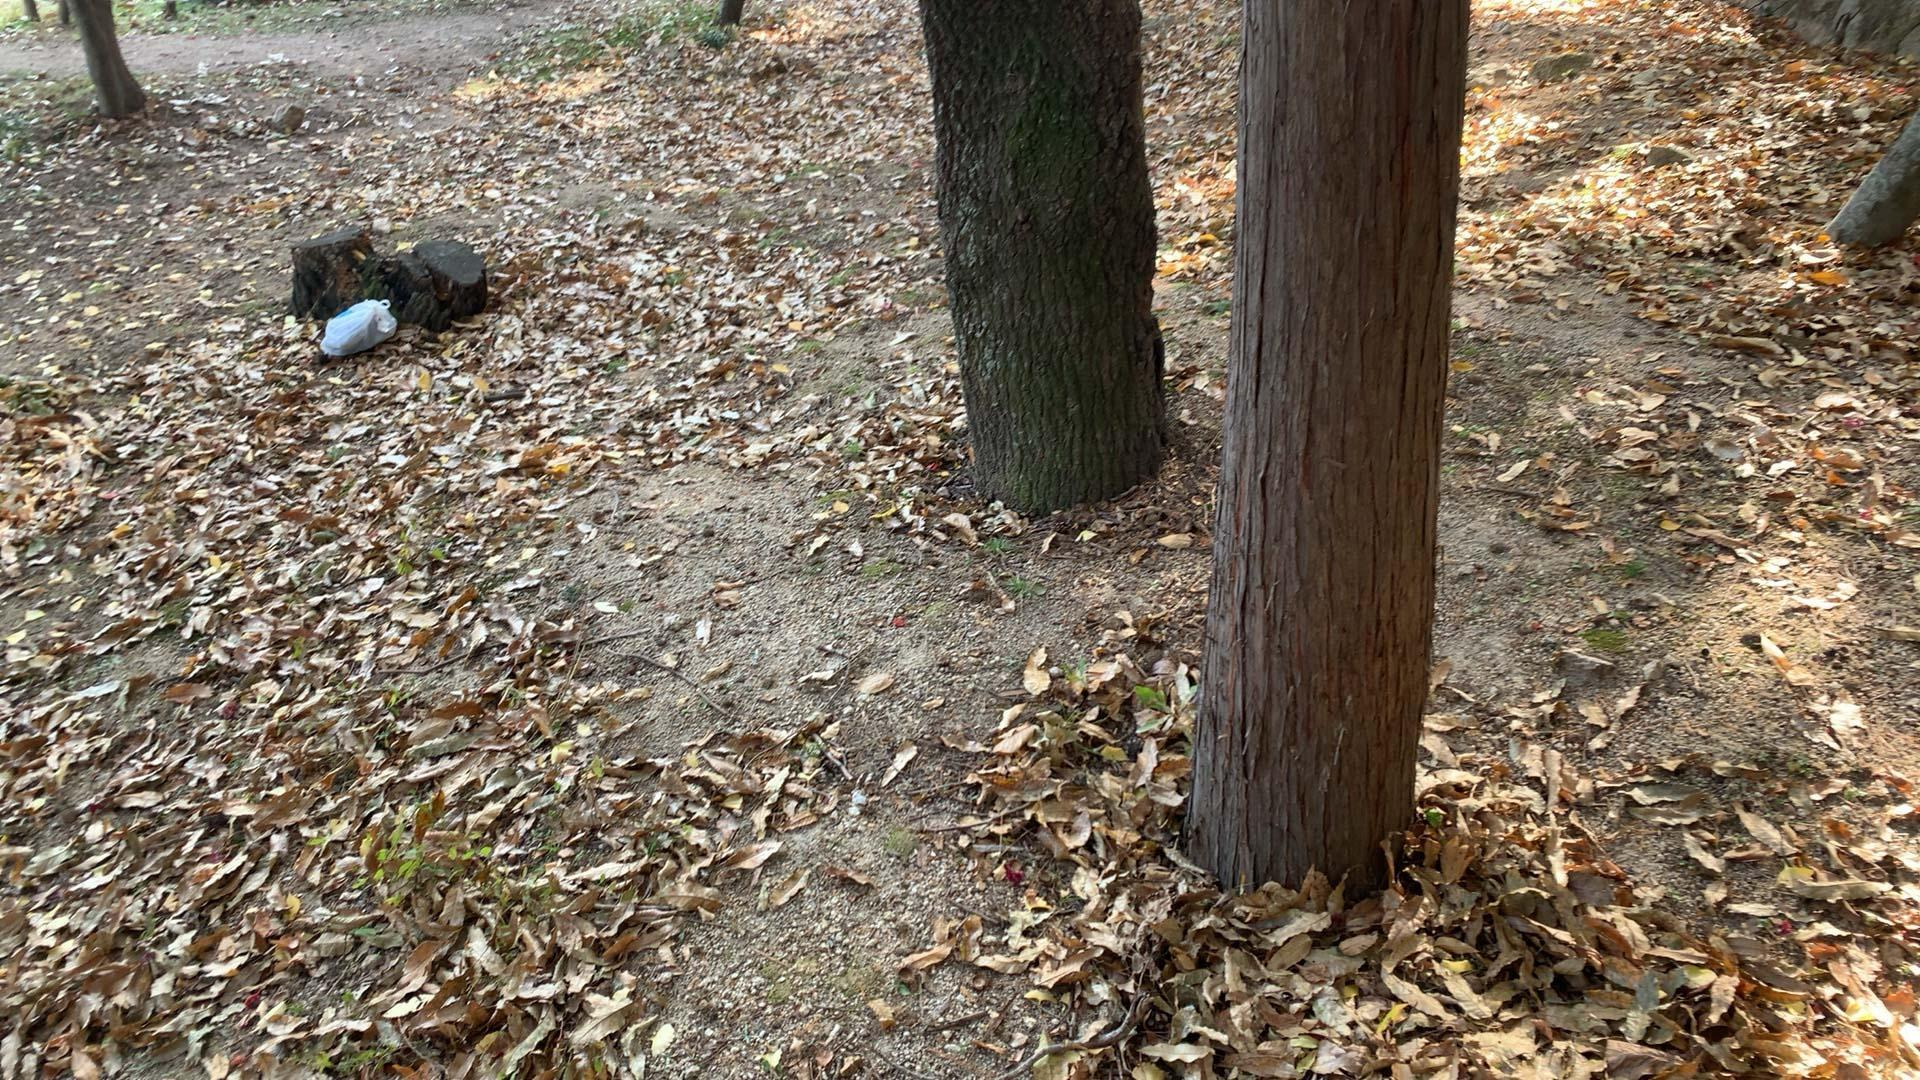white_bag: (316, 295, 401, 359)
